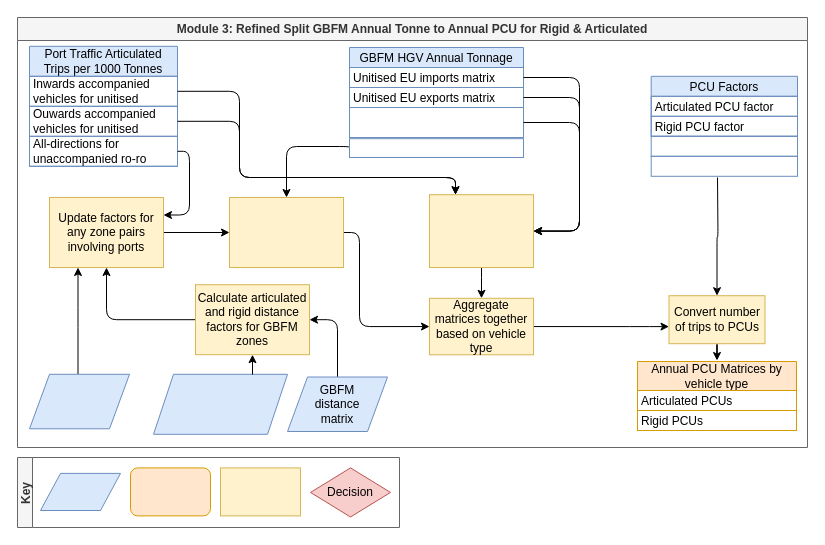
Image size: 825x545. Some labels were removed from this diagram. The centre of each missing label's shape, as x and y in pixels:
"Articulated O/D factor(s)" goes at (x=724, y=145).
"Convert domestic and bulk port to articulated and rigid trips" goes at (x=286, y=232).
"Convert unitised trade to articulated & rigid trips" goes at (x=481, y=231).
"Domestic and bulk port matrix" goes at (x=436, y=148).
"GBFM port lookup" goes at (x=79, y=401).
"Inputs" goes at (x=80, y=491).
"Outputs / Intermediate" goes at (x=170, y=491).
"Process" goes at (x=260, y=491).
"Rigid / articulated vehicle trips per 1000 tonnes by distance band" goes at (x=220, y=403).
"Rigid O/D factor(s)" goes at (x=724, y=165).
"Unitised non-EU imports and exports" goes at (x=436, y=122).
